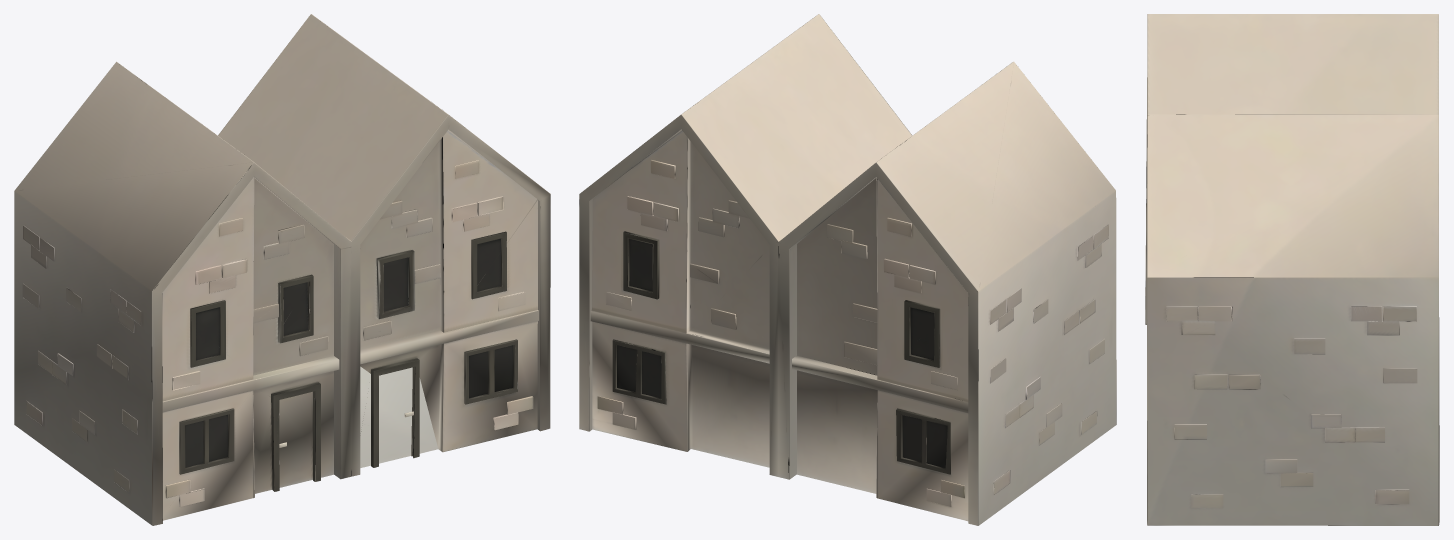
File: 04-duplex-house.glb
The picture shows the model from 3 angles, left to right: view 1: azimuth 30°, elevation 25°; view 2: azimuth 150°, elevation 25°; view 3: azimuth 270°, elevation 25°; orthographic projection. The views are drawn at different scales.
Parts seen in each view (by area): view 1: geometry_0; view 2: geometry_0; view 3: geometry_0.
Part boxes in pixels (x1=…): geometry_0: x1=14, y1=14, x2=550, y2=525; geometry_0: x1=579, y1=14, x2=1116, y2=525; geometry_0: x1=1145, y1=14, x2=1439, y2=525.
Size of the model in its own units: 0.9609 by 0.7715 by 0.5737.
1 material, 1 textured.
